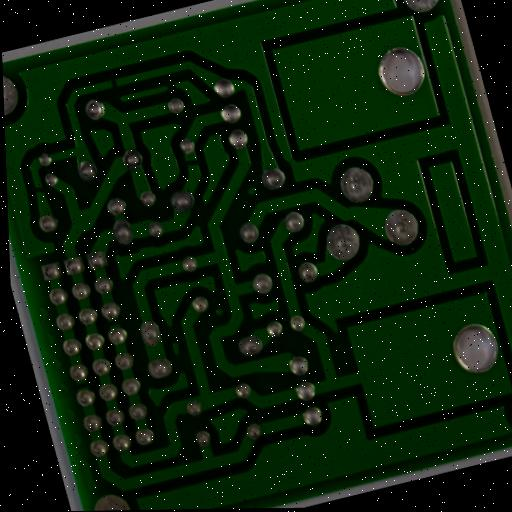open_circuit: (68, 378, 95, 396), (181, 154, 203, 172), (103, 315, 125, 332), (107, 72, 123, 91), (31, 183, 48, 198)
